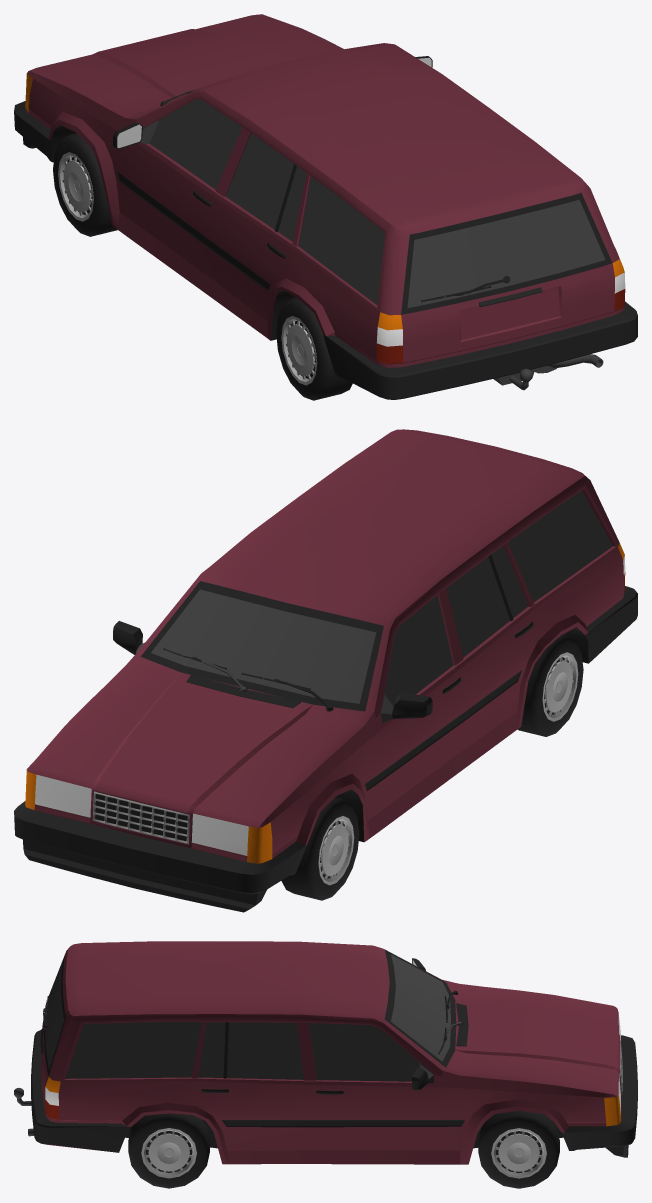
Rendered from m8_wagon_sloped_burgundy.glb.
3 views of the same model, one above another, from view 1: azimuth 30°, elevation 25°; view 2: azimuth 150°, elevation 25°; view 3: azimuth 270°, elevation 25° (orthographic). The views are drawn at different scales.
Parts seen in each view (by area): view 1: Body, Wheel_RL, Wheel_FL, Interior; view 2: Body, Wheel_FL, Wheel_RL; view 3: Body, Wheel_FR, Wheel_RR, Interior.
Part boxes in pixels (x1,y1,x2,y2): Body: [14, 14, 637, 399]; Wheel_RL: [276, 298, 352, 400]; Wheel_FL: [53, 133, 117, 236]; Interior: [160, 89, 603, 390]; Body: [14, 429, 637, 912]; Wheel_FL: [281, 797, 359, 900]; Wheel_RL: [517, 634, 583, 736]; Body: [31, 941, 637, 1164]; Wheel_FR: [478, 1111, 559, 1188]; Wheel_RR: [128, 1113, 209, 1188]; Interior: [14, 990, 462, 1136].
Bounding box in the file's own units: 2.13 × 1.36 × 4.64.
1 material, 1 textured.
